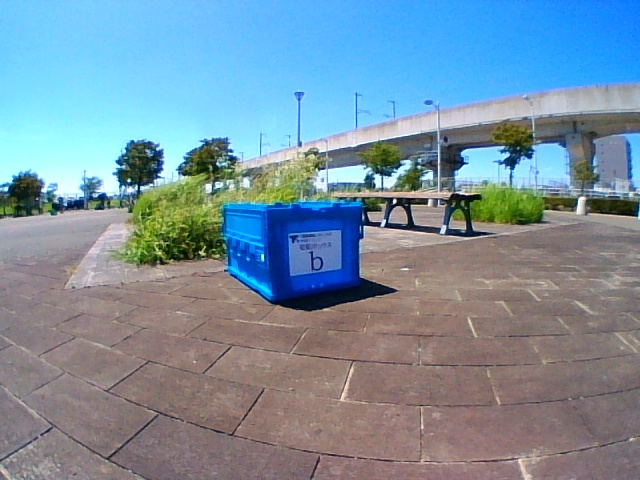blue_box: (239, 204, 357, 281)
tag_b: (298, 242, 334, 270)
